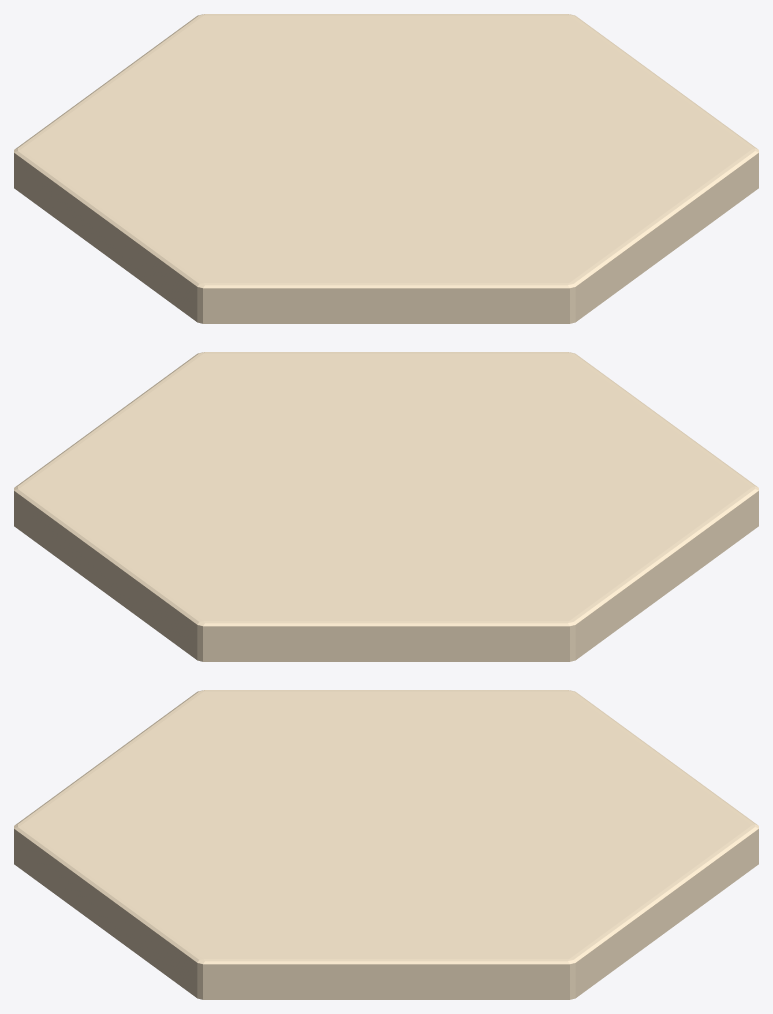
File: basetile_unwrapped.fbx
3 renders of one model, top to bottom at view 1: azimuth 30°, elevation 25°; view 2: azimuth 150°, elevation 25°; view 3: azimuth 270°, elevation 25°, orthographic.
Visible parts, largest first — view 1: BasePlate; view 2: BasePlate; view 3: BasePlate.
Boxes of the visible parts, <box> form: BasePlate: <box>14,14,758,323</box>; BasePlate: <box>14,352,758,661</box>; BasePlate: <box>14,690,758,999</box>.
Bounding box in the file's own units: 173 × 11.05 × 199.
